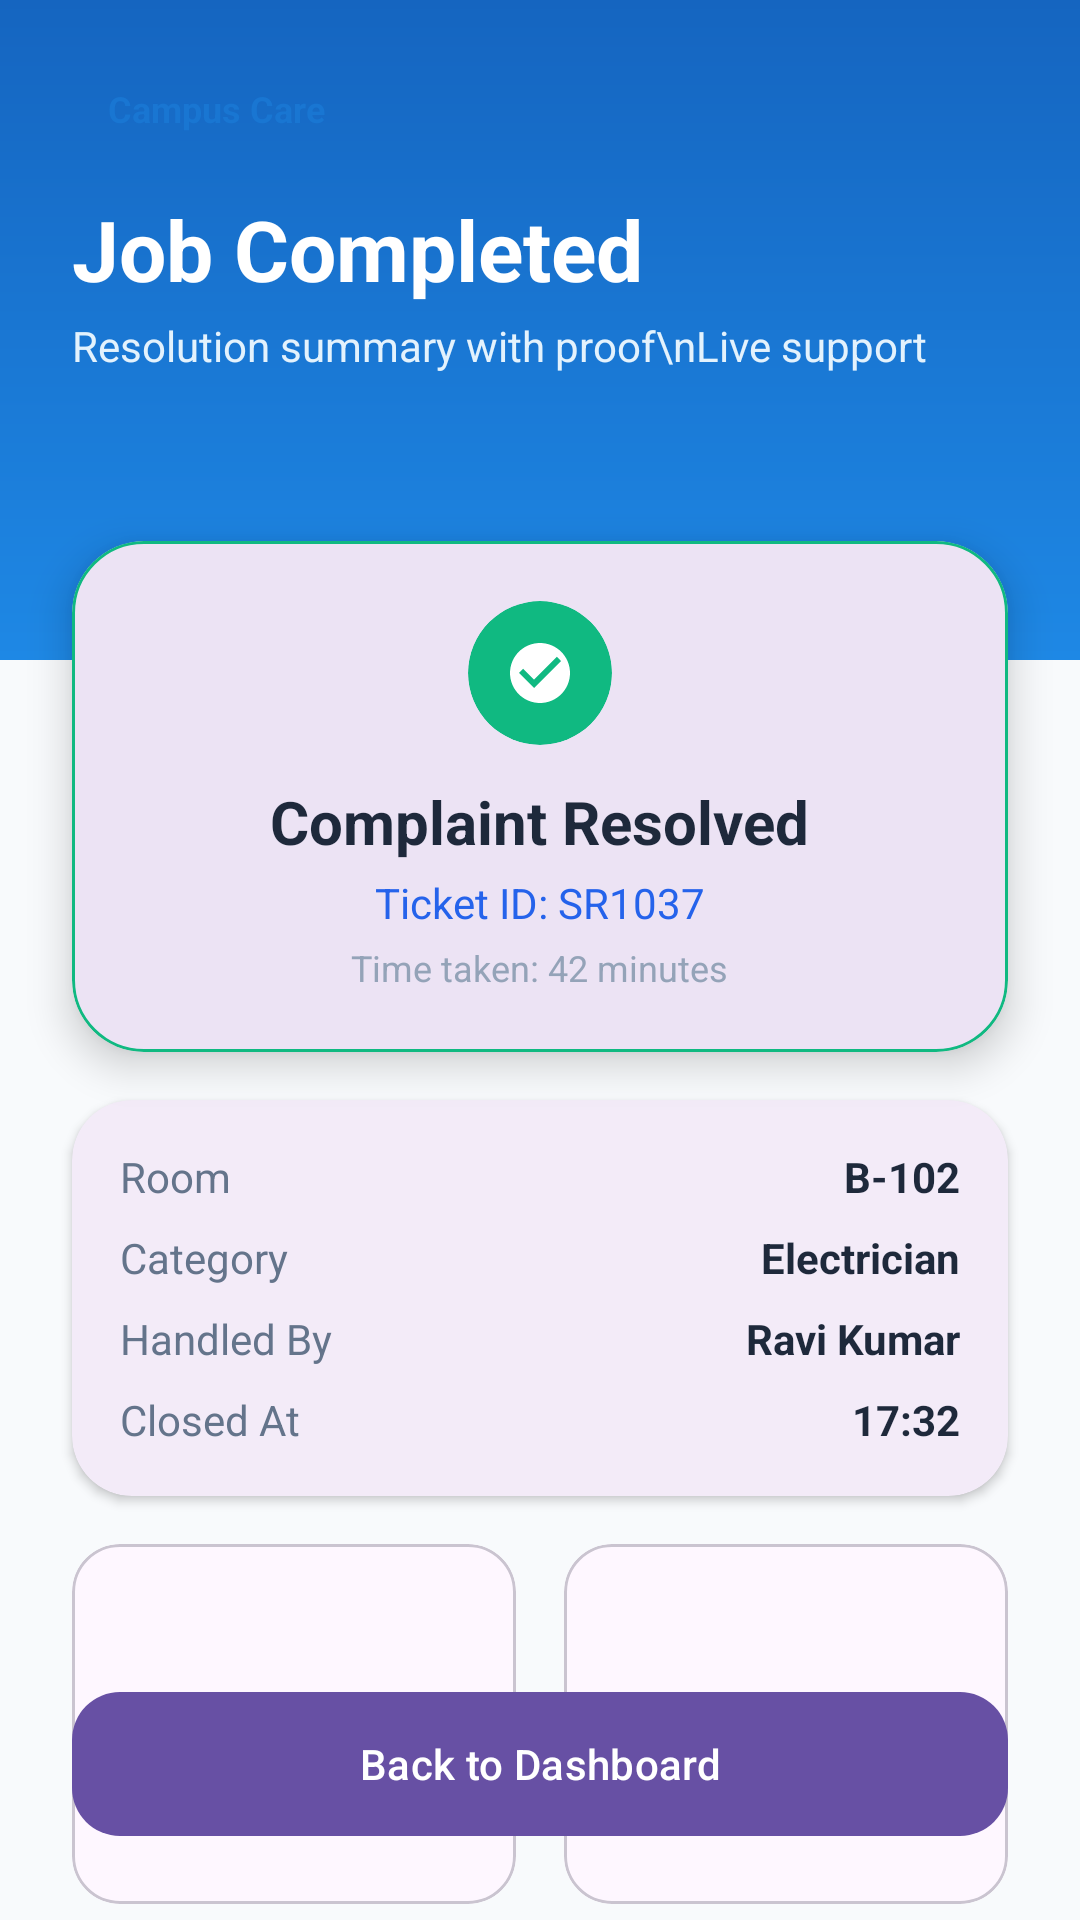

Named icons in this screenshot (1080w x 1920h) and their centers, point (x, y):
completed: point (540, 673)
